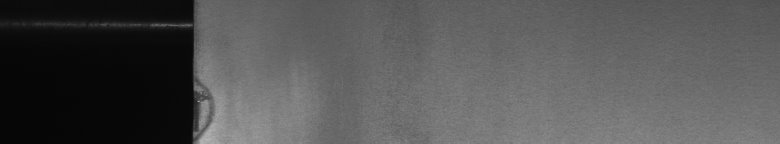hb: (204, 84, 222, 136)
